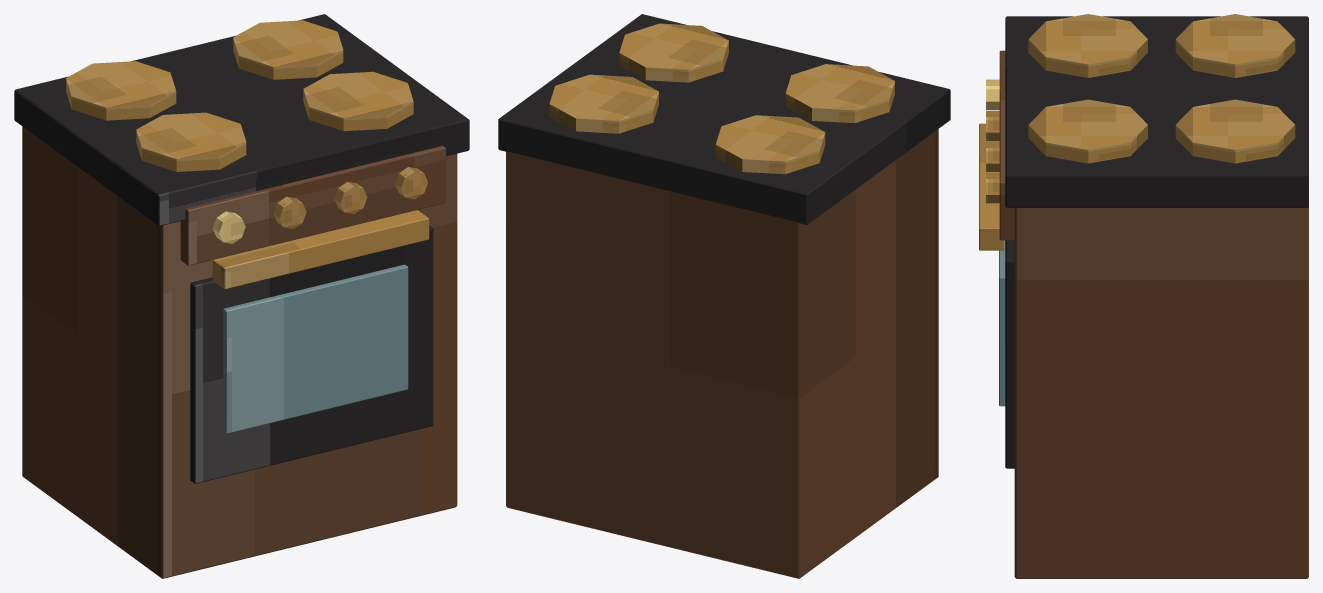
Rendered from luxury_kitchen_stove.glb.
The picture shows the model from 3 angles, left to right: view 1: azimuth 30°, elevation 25°; view 2: azimuth 150°, elevation 25°; view 3: azimuth 270°, elevation 25°; orthographic projection. The views are drawn at different scales.
Visible parts, largest first — view 1: RangeBody, Cooktop, OvenWindow, OvenDoor, RangeControls, OvenHandle, Burner_4, Burner_1, Burner_3, Burner_2, RangeKnob_1, RangeKnob_2 (+2 smaller); view 2: RangeBody, Cooktop, Burner_3, Burner_4, Burner_2, Burner_1; view 3: RangeBody, Cooktop, Burner_4, Burner_3, Burner_2, Burner_1, OvenDoor, OvenHandle, RangeControls, OvenWindow, RangeKnob_1, RangeKnob_2 (+2 smaller).
Boxes of the visible parts, <box> form: RangeBody: <box>22,126,457,578</box>; Cooktop: <box>14,14,469,226</box>; OvenWindow: <box>223,264,408,433</box>; OvenDoor: <box>190,225,433,483</box>; RangeControls: <box>180,146,445,265</box>; OvenHandle: <box>212,210,429,289</box>; Burner_4: <box>233,20,343,79</box>; Burner_1: <box>136,112,246,171</box>; Burner_3: <box>66,61,176,120</box>; Burner_2: <box>303,71,413,131</box>; RangeKnob_1: <box>212,211,245,243</box>; RangeKnob_2: <box>273,196,306,228</box>; RangeBody: <box>506,129,938,578</box>; Cooktop: <box>498,14,950,224</box>; Burner_3: <box>715,115,825,174</box>; Burner_4: <box>549,74,658,133</box>; Burner_2: <box>619,23,728,82</box>; Burner_1: <box>785,64,894,123</box>; RangeBody: <box>1014,207,1308,578</box>; Cooktop: <box>1005,16,1308,207</box>; Burner_4: <box>1175,99,1295,163</box>; Burner_3: <box>1175,14,1295,77</box>; Burner_2: <box>1028,99,1147,163</box>; Burner_1: <box>1028,14,1147,77</box>; OvenDoor: <box>1005,240,1014,468</box>; OvenHandle: <box>979,123,1004,250</box>; RangeControls: <box>999,50,1014,240</box>; OvenWindow: <box>999,240,1005,406</box>; RangeKnob_1: <box>986,79,999,109</box>; RangeKnob_2: <box>986,110,999,140</box>.
Size of the model in its own units: 0.82 by 1.01 by 0.7175.
1 material, 1 textured.
